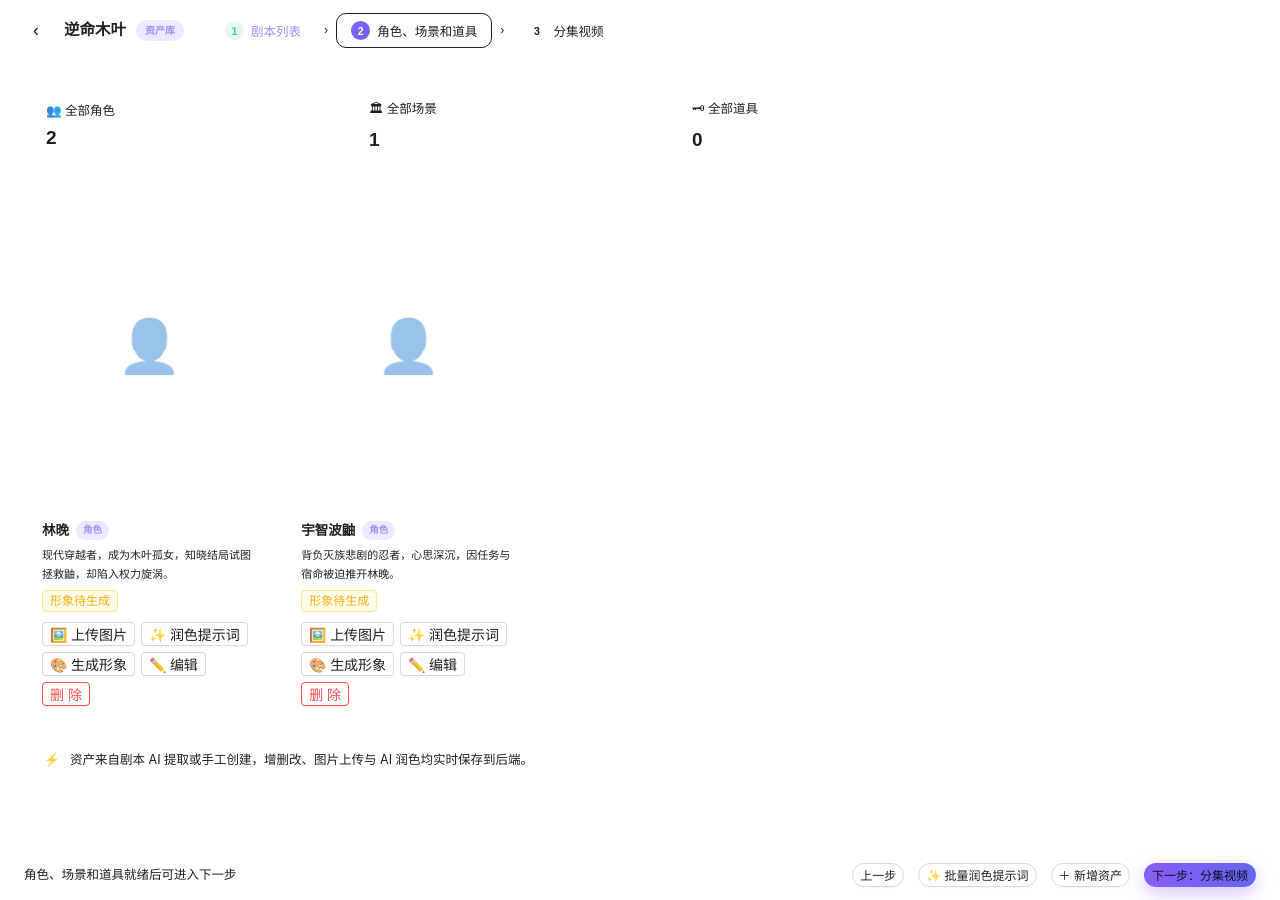
AssetsPage 资产工坊 › 删除资产立即持久化，列表即时更新
The width and height of the screenshot is (1280, 900).
Expected: the text "宇智波鼬" is shown, [301, 522, 355, 538]
Click the button "删 除" below "背负灭族悲剧的忍者，心思深沉，因任务与宿命被迫推开林晚。": x=325, y=694 [301, 682, 349, 706]
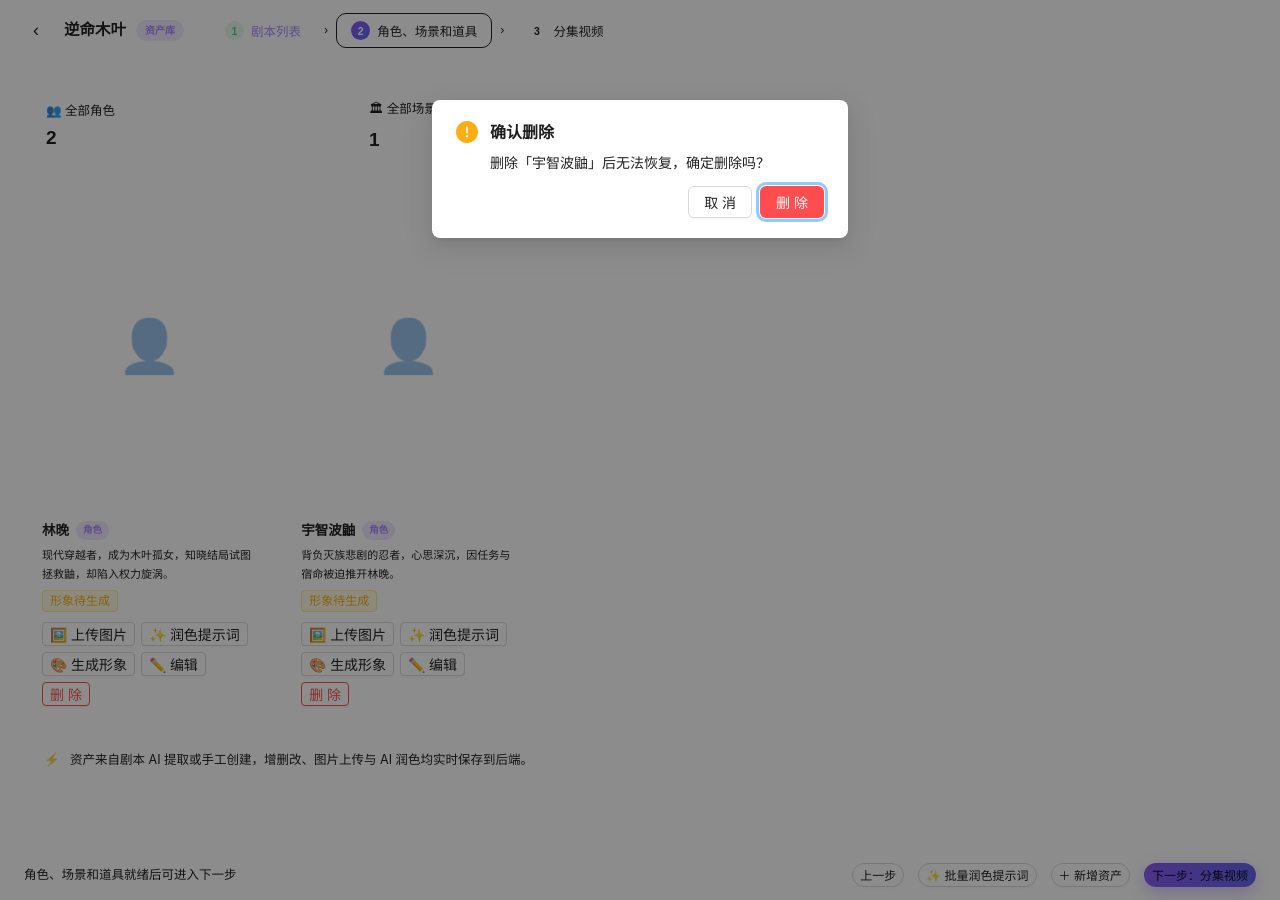
Result: the dialog is shown at [432, 100, 848, 262]
Result: the button "删 除" is shown
Click the button "删 除": x=792, y=202 [760, 186, 824, 218]
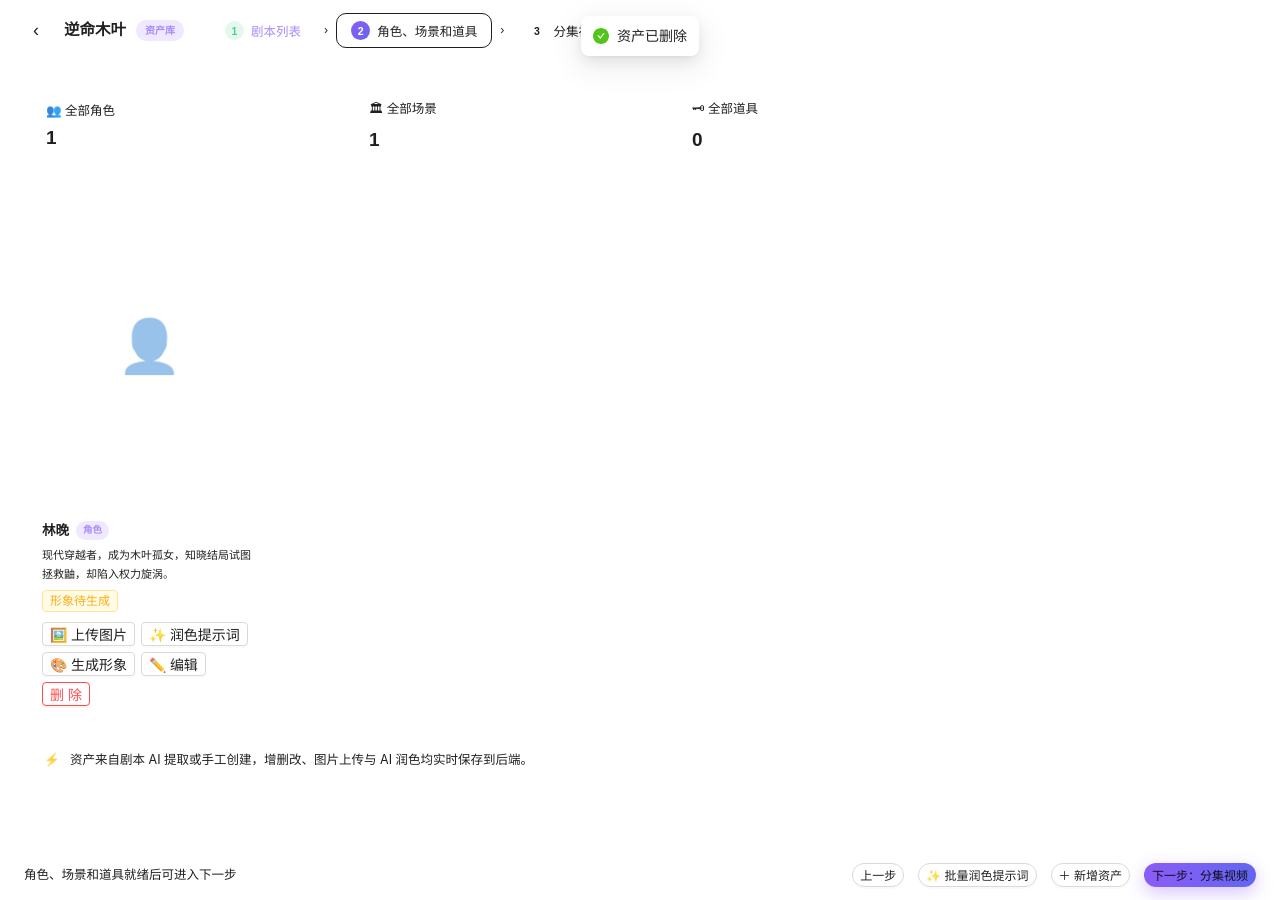
Result: the text "宇智波鼬" is gone
